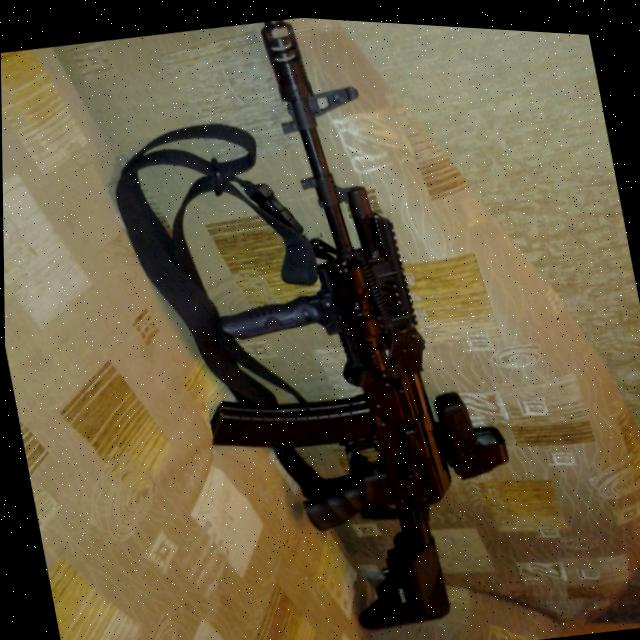firearm: (137, 6, 540, 640)
